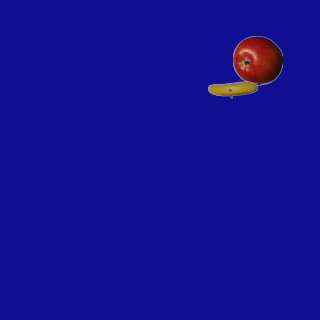Apple Braeburn: (232, 35, 282, 85)
Banana: (207, 64, 257, 114)
